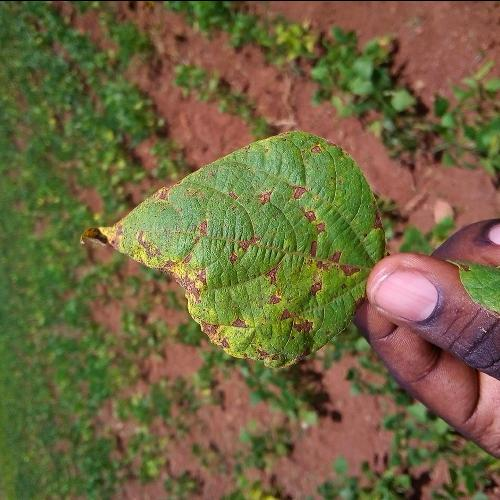hawar: (122, 115, 360, 368)
